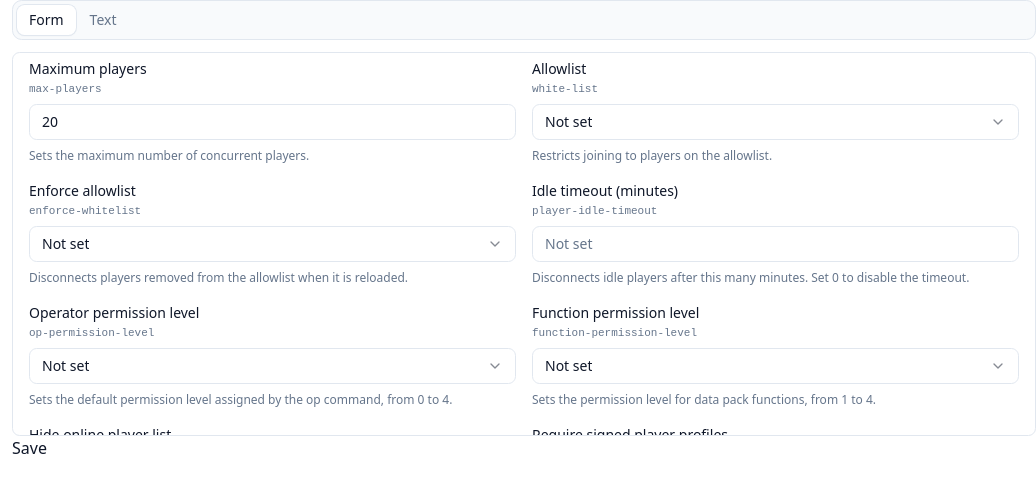
server.properties form › blocks invalid player_idle_timeout=1.5 and accepts 0
(page scrolled)
Type "1.5" into the field labelled "Idle timeout (minutes)" at [776, 244], box left=532, top=226, right=1019, bottom=262
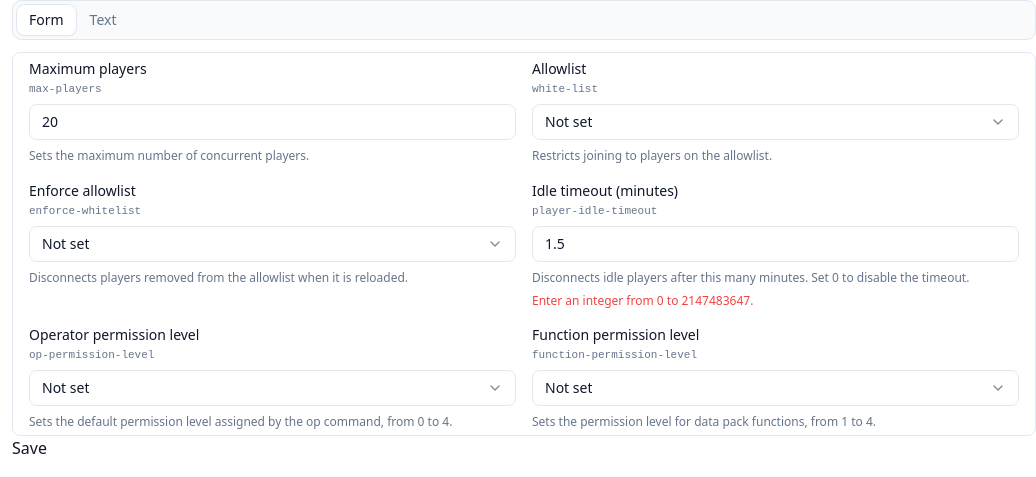
expect the button "Save" is disabled: met, box left=12, top=436, right=47, bottom=460
expect the field labelled "Idle timeout (minutes)" is marked as invalid: met
Press s in the field labelled "Idle timeout (minutes)", box left=532, top=226, right=1019, bottom=262
Replace the text in the field labelled "Idle timeout (minutes)" with "0" at [776, 244], box left=532, top=226, right=1019, bottom=262
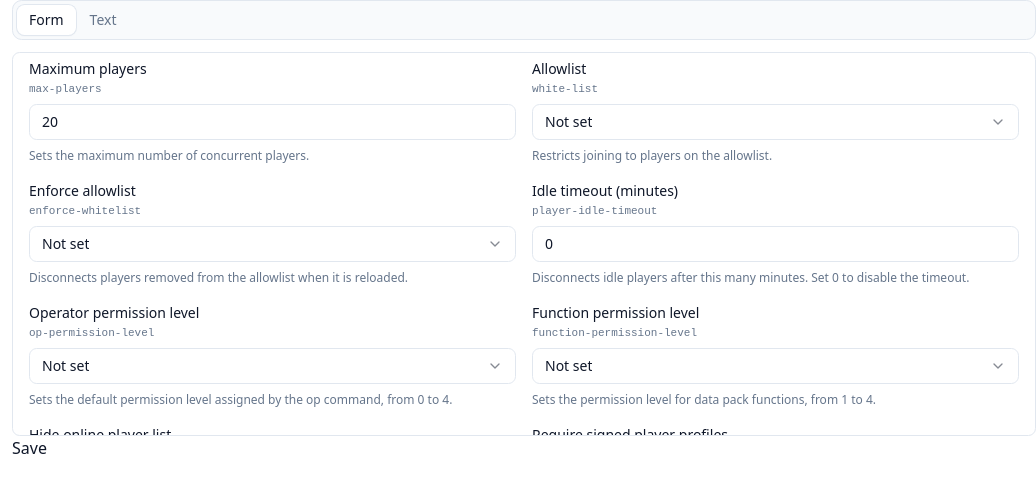
expect the button "Save" is enabled: met, box left=12, top=436, right=47, bottom=460
expect the message "Enter an integer from 0 to 2147483647." is gone: met
